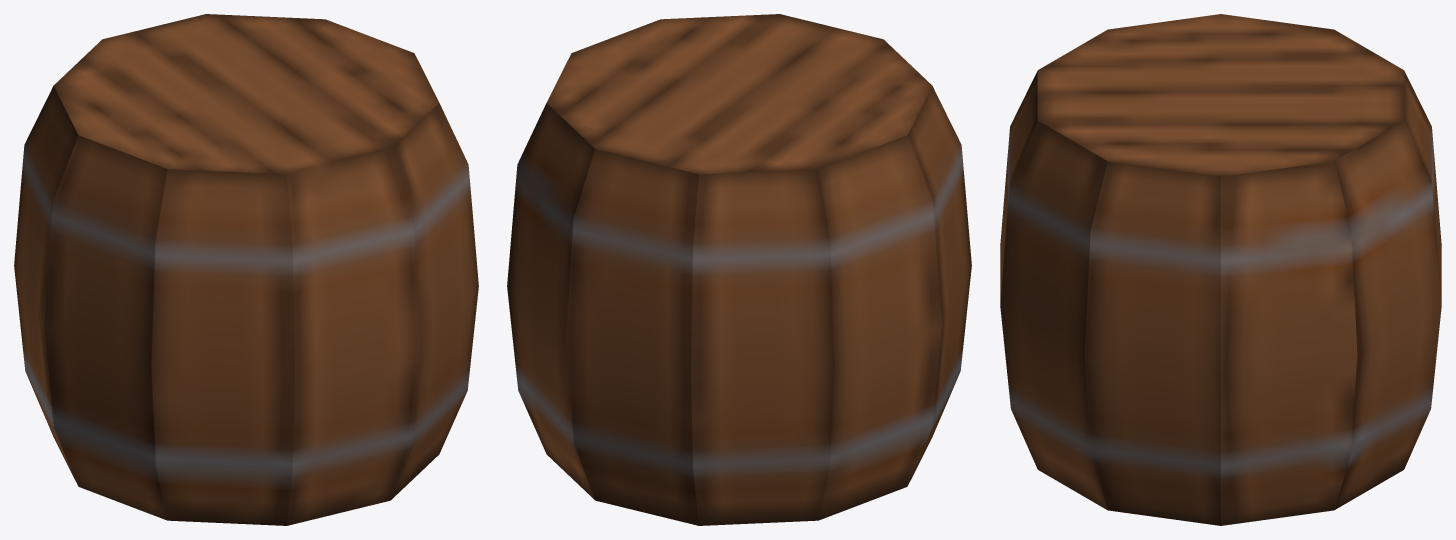
Rendered from Barrel.fbx.
3 views of the same model, side by side, from view 1: azimuth 30°, elevation 25°; view 2: azimuth 150°, elevation 25°; view 3: azimuth 270°, elevation 25° (orthographic).
Visible parts, largest first — view 1: pCylinder7; view 2: pCylinder7; view 3: pCylinder7.
Part boxes in pixels (left/top/right/bottom): pCylinder7: left=14, top=14, right=478, bottom=525; pCylinder7: left=507, top=14, right=971, bottom=525; pCylinder7: left=1000, top=14, right=1441, bottom=525.
Size of the model in its own units: 0.4103 by 0.3406 by 0.3902.
